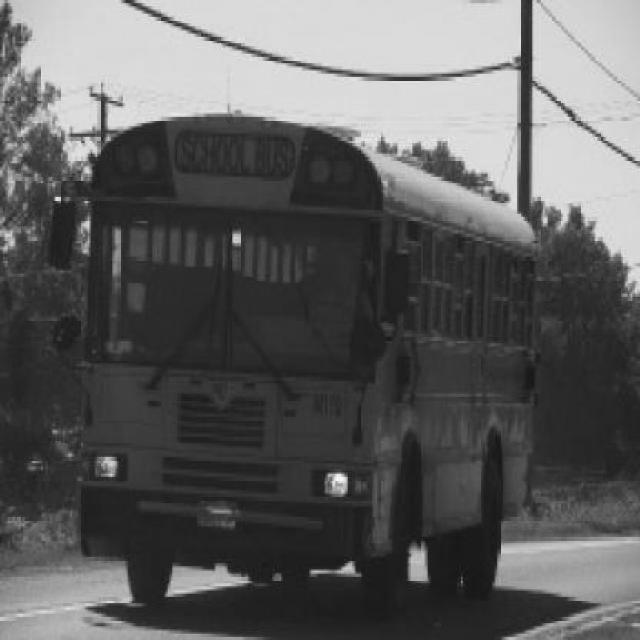Bus: (77, 116, 538, 617)
